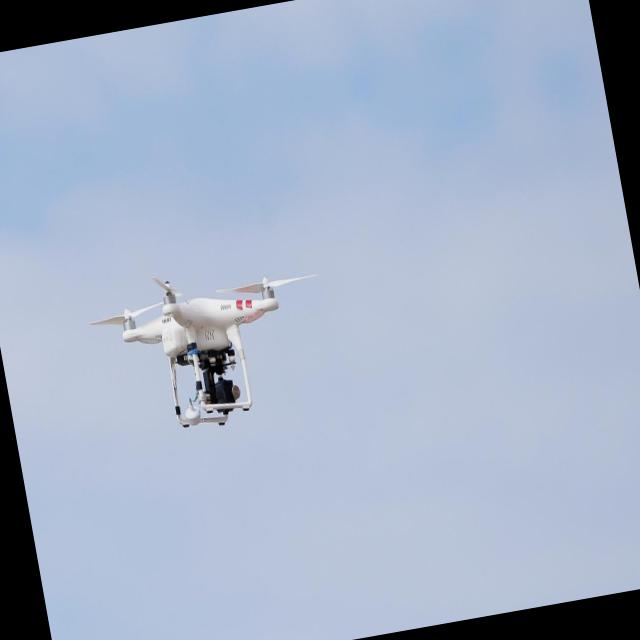drone: (79, 243, 340, 444)
